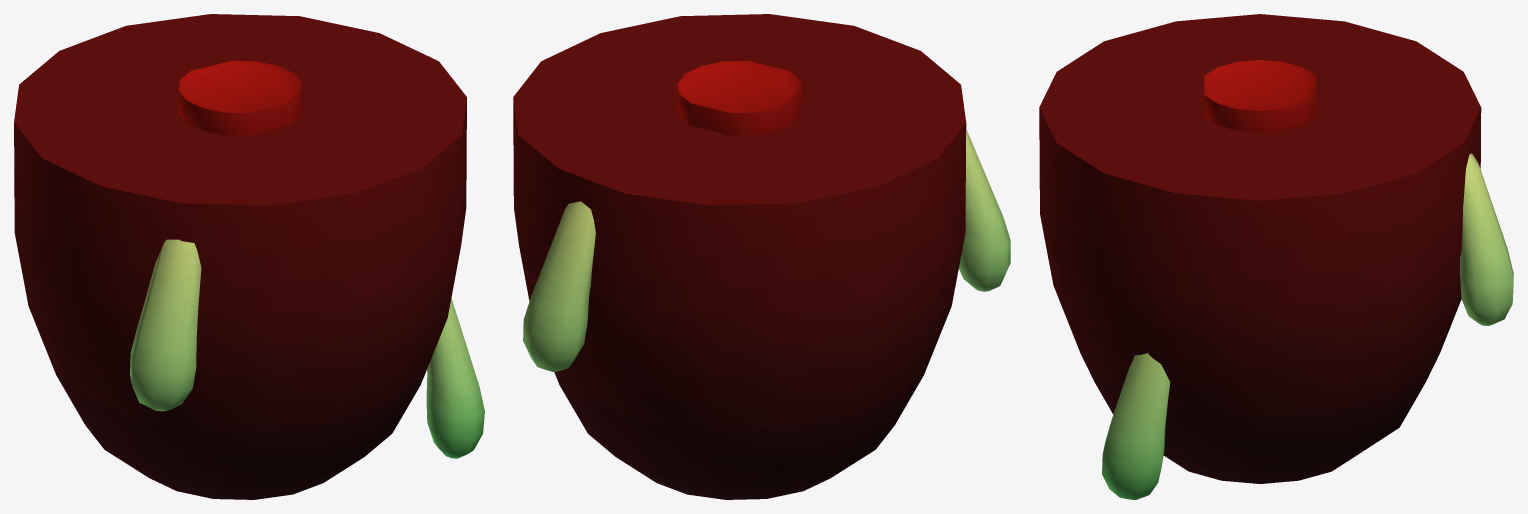
The model's file is Demon_Flesh_Source_2_Adjusted.fbx.
The picture shows the model from 3 angles, left to right: view 1: azimuth 30°, elevation 25°; view 2: azimuth 150°, elevation 25°; view 3: azimuth 270°, elevation 25°; orthographic projection. The views are drawn at different scales.
Visible parts, largest first — view 1: Demon_Flesh_Source_2_Adjusted; view 2: Demon_Flesh_Source_2_Adjusted; view 3: Demon_Flesh_Source_2_Adjusted.
Boxes of the visible parts, x1,y1,x2,y2 form: Demon_Flesh_Source_2_Adjusted: [14, 14, 484, 499]; Demon_Flesh_Source_2_Adjusted: [513, 14, 1010, 499]; Demon_Flesh_Source_2_Adjusted: [1039, 14, 1513, 499].
Bounding box in the file's own units: 6 × 5.69 × 6.45.
